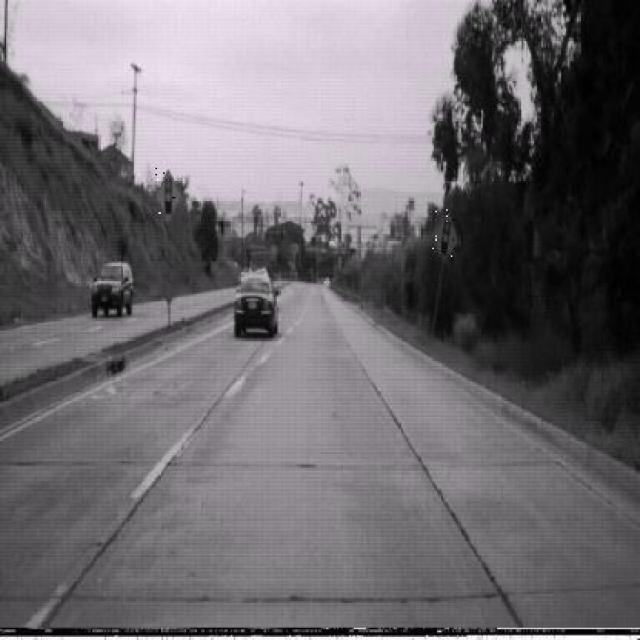signalAhead: (155, 168, 182, 223), (434, 209, 461, 261)
